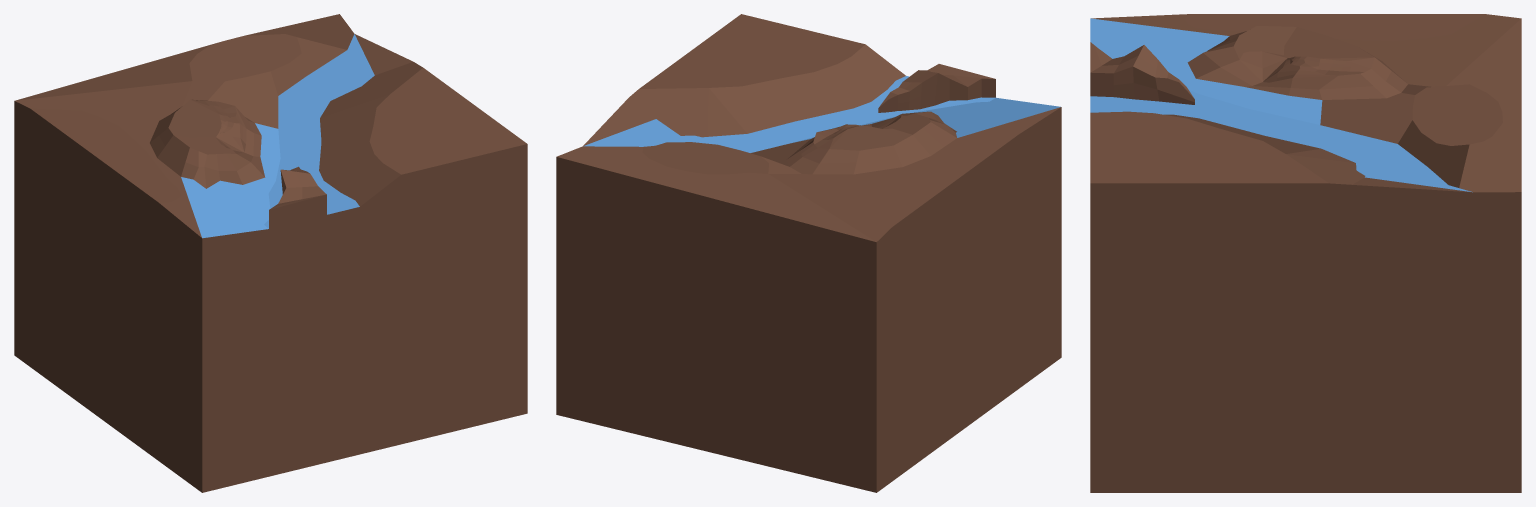
Rendered from ground 2.fbx.
3 renders of one model, left to right at view 1: azimuth 30°, elevation 25°; view 2: azimuth 150°, elevation 25°; view 3: azimuth 270°, elevation 25°, orthographic. The views are drawn at different scales.
Parts seen in each view (by area): view 1: pasted__ground; view 2: pasted__ground; view 3: pasted__ground.
Boxes of the visible parts, <box> form: pasted__ground: <box>14,14,527,492</box>; pasted__ground: <box>556,14,1061,492</box>; pasted__ground: <box>1090,14,1521,492</box>.
Bounding box in the file's own units: 47530 × 39292 × 47530.
